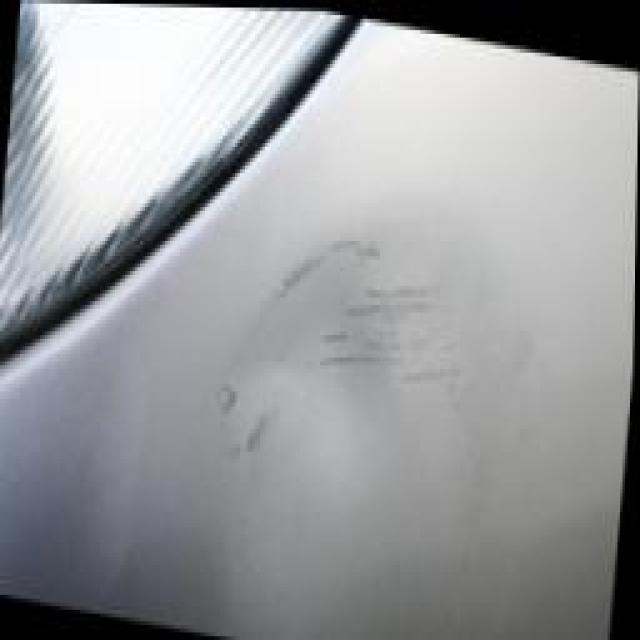Bumper: (205, 154, 488, 527)
